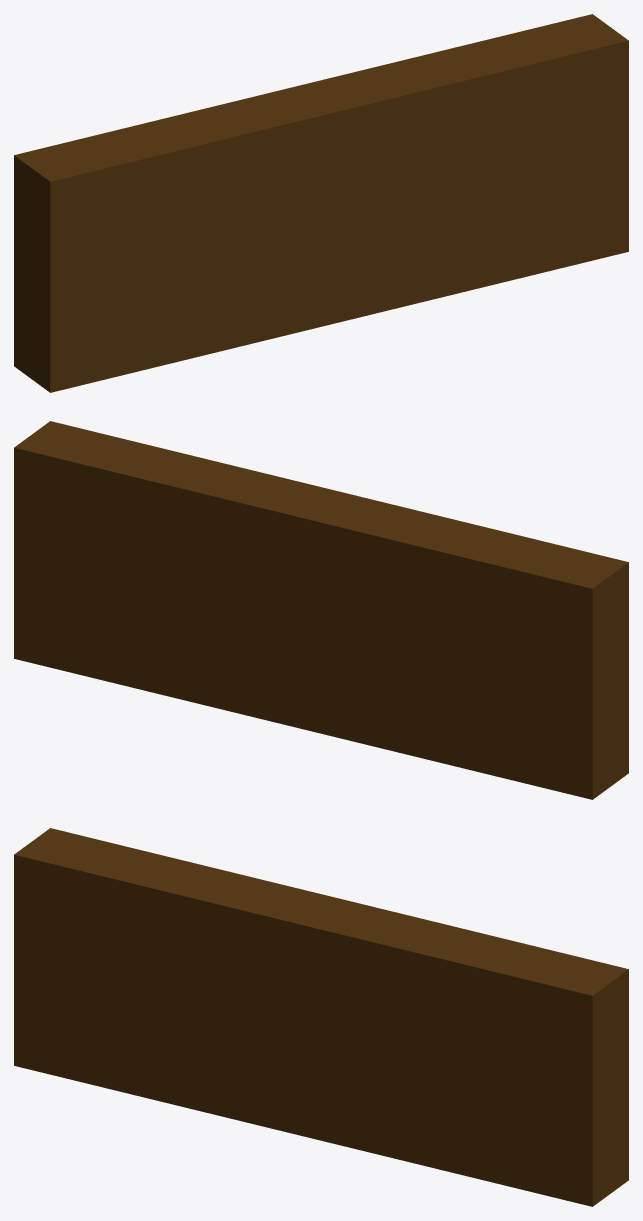
File: wall_broken.FBX
The picture shows the model from 3 angles, top to bottom: view 1: azimuth 30°, elevation 25°; view 2: azimuth 150°, elevation 25°; view 3: azimuth 330°, elevation 25°; orthographic projection.
Parts seen in each view (by area): view 1: Box001; view 2: Box001; view 3: Box001.
Part boxes in pixels (x1,y1,x2,y2): Box001: [14, 14, 628, 392]; Box001: [14, 421, 628, 799]; Box001: [14, 828, 628, 1206].
Bounding box in the file's own units: 402 × 140 × 43.76.
